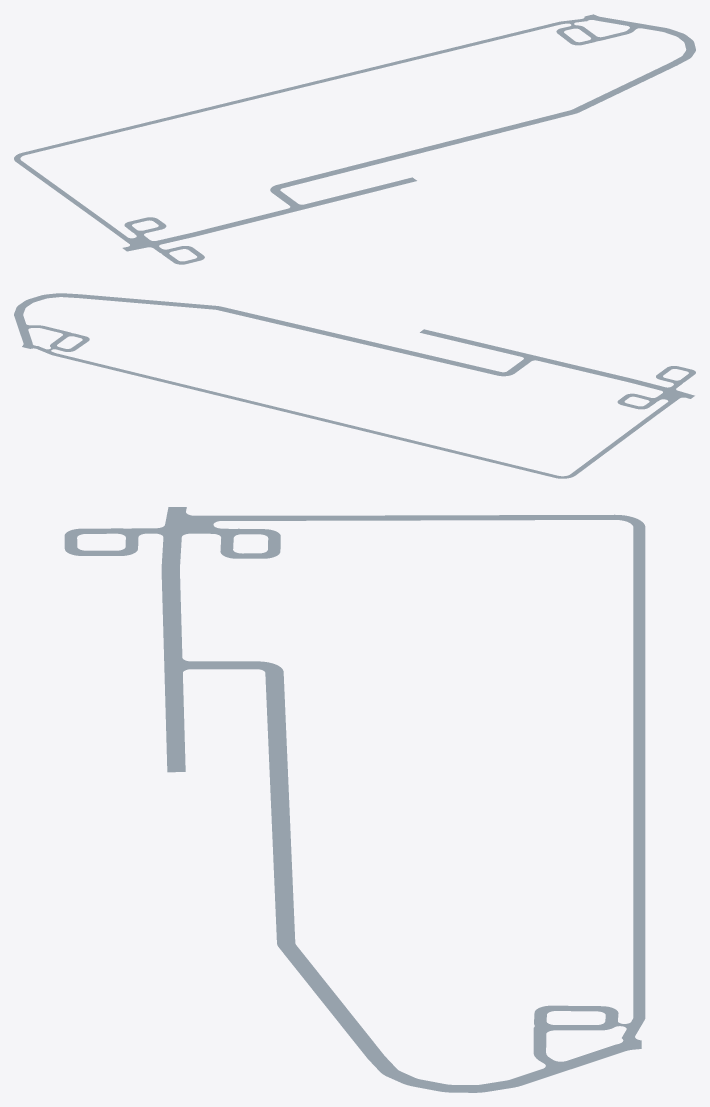
The model's file is SM_GHSPark_CampusRoads.fbx.
The picture shows the model from 3 angles, top to bottom: view 1: azimuth 30°, elevation 25°; view 2: azimuth 150°, elevation 25°; view 3: azimuth 270°, elevation 25°; orthographic projection. The views are drawn at different scales.
Visible parts, largest first — view 1: SM_GHSPark_CampusRoads; view 2: SM_GHSPark_CampusRoads; view 3: SM_GHSPark_CampusRoads.
Part boxes in pixels (x1,y1,x2,y2): SM_GHSPark_CampusRoads: [14, 14, 695, 264]; SM_GHSPark_CampusRoads: [14, 293, 695, 478]; SM_GHSPark_CampusRoads: [64, 507, 645, 1092].
Size of the model in its own units: 57395 by 24054 by 0.
